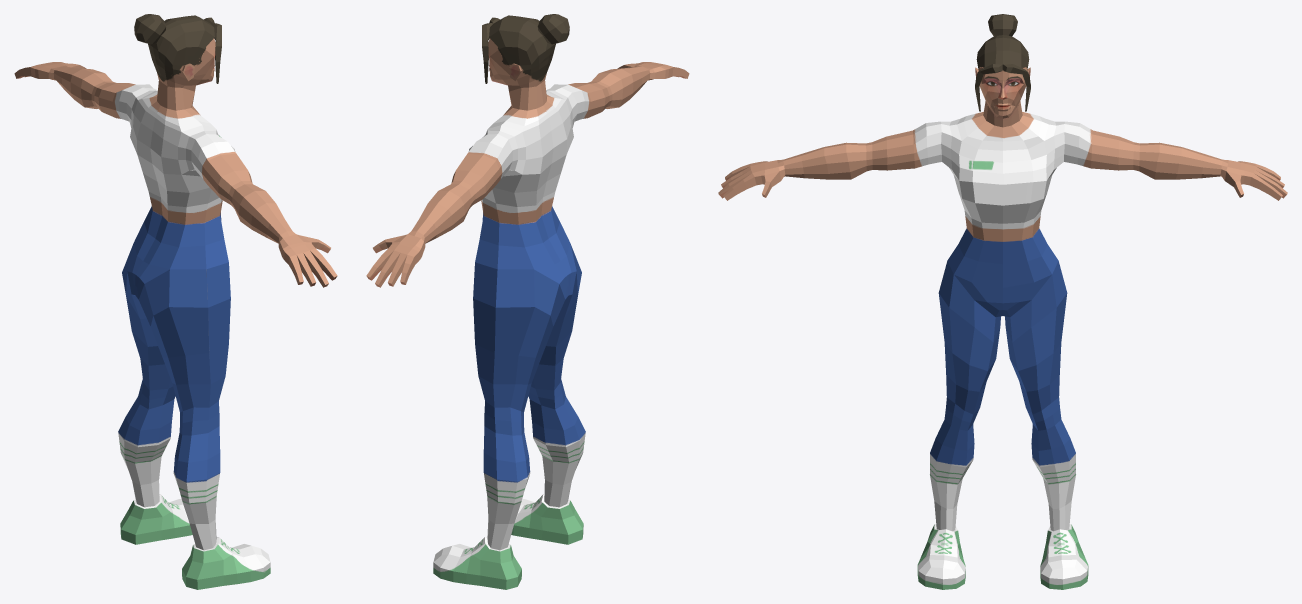
File: Woman.fbx
3 views of the same model, side by side, from view 1: azimuth 30°, elevation 25°; view 2: azimuth 150°, elevation 25°; view 3: azimuth 270°, elevation 25° (orthographic). The views are drawn at different scales.
Visible parts, largest first — view 1: Cube; view 2: Cube; view 3: Cube.
Boxes of the visible parts, x1,y1,x2,y2 form: Cube: (14,14,337,589); Cube: (366,14,689,589); Cube: (718,14,1287,589).
Bounding box in the file's own units: 154 × 788 × 762.
Materials: 1 (1 with a texture image).
